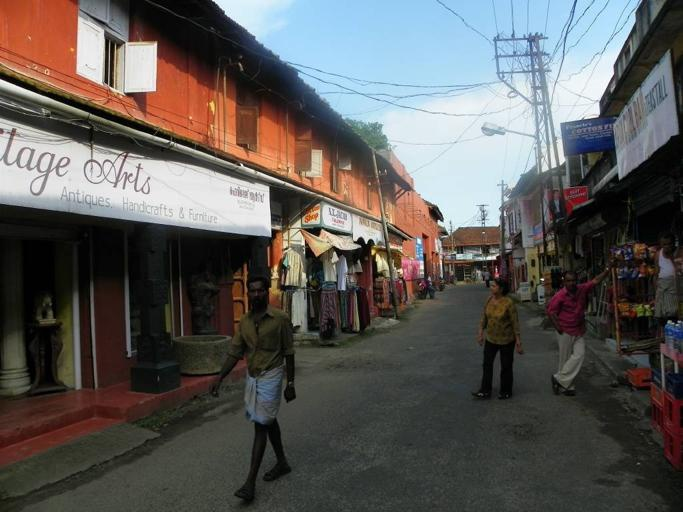non-vehicle: (414, 278, 427, 299), (437, 276, 446, 291)
